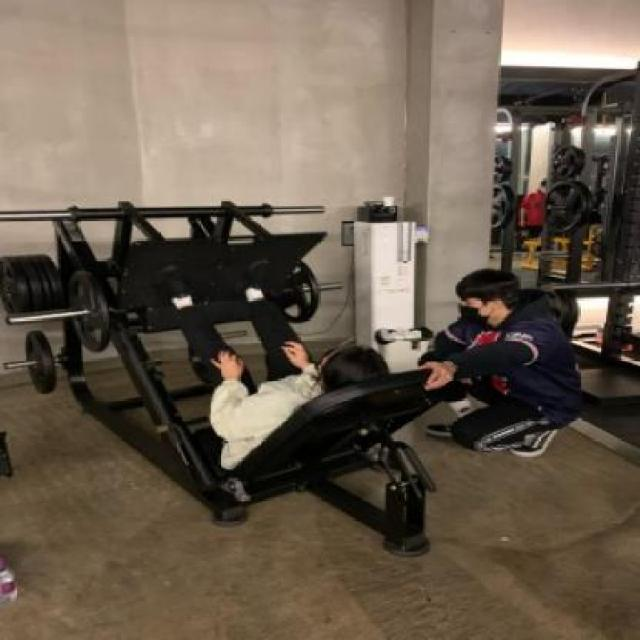leg press: (0, 178, 488, 572)
